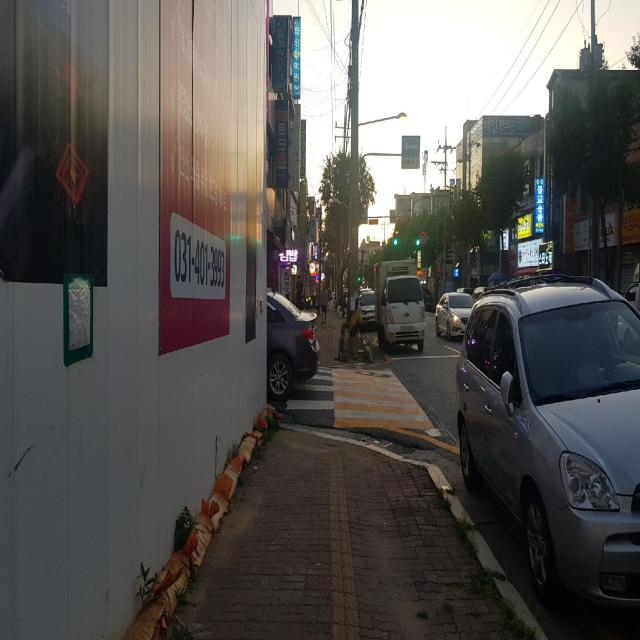횡단보도: (286, 366, 334, 409)
